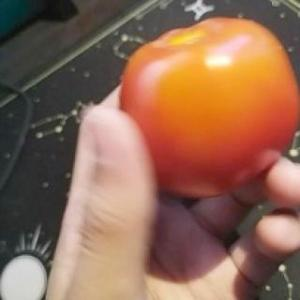tomato: (117, 15, 300, 203)
